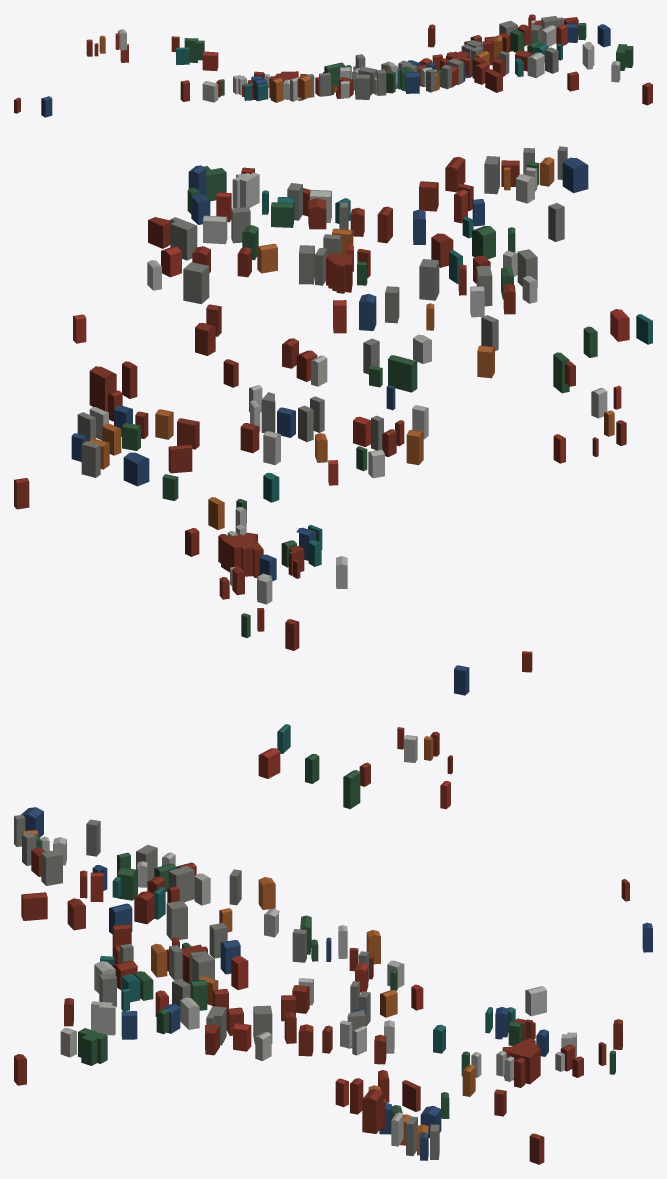
Rendered from near-16-54719-29728.756b8e84.glb.
3 renders of one model, top to bottom at view 1: azimuth 30°, elevation 25°; view 2: azimuth 150°, elevation 25°; view 3: azimuth 270°, elevation 25°, orthographic. The views are drawn at different scales.
Size of the model in its own units: 507 by 207 by 475.
